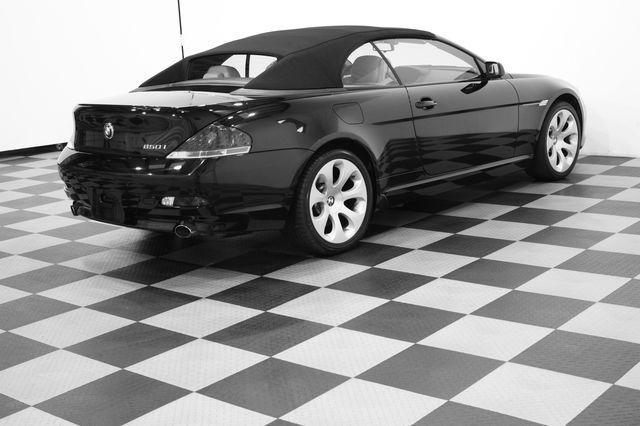car: (56, 1, 588, 258)
